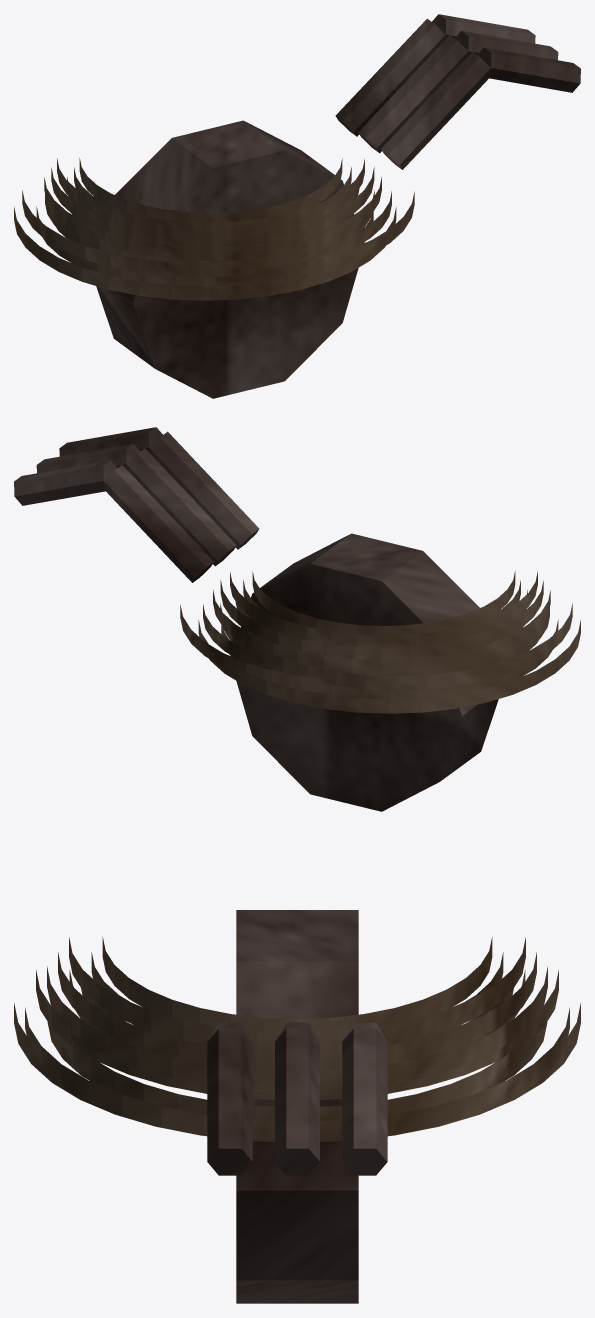
File: 0966_rope_coil_16.glb
3 renders of one model, top to bottom at view 1: azimuth 30°, elevation 25°; view 2: azimuth 150°, elevation 25°; view 3: azimuth 270°, elevation 25°, orthographic. The views are drawn at different scales.
Parts seen in each view (by area): view 1: wood_dark, wood; view 2: wood_dark, wood; view 3: wood_dark, wood.
Boxes of the visible parts, x1,y1,x2,y2 form: wood_dark: (96,14,580,398); wood: (14,158,414,300); wood_dark: (14,427,498,811); wood: (180,571,580,713); wood_dark: (207,910,387,1303); wood: (14,937,580,1141).
Bounding box in the file's own units: 1.44 × 0.7579 × 0.9257.
Materials: 2 (2 with a texture image).
